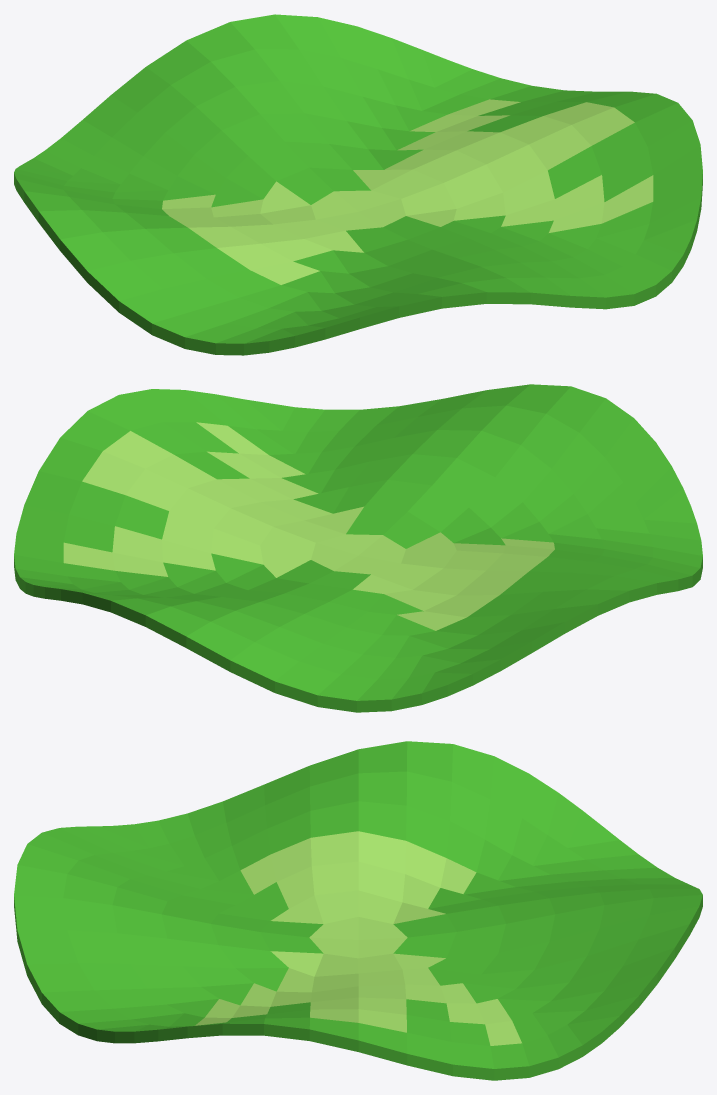
File: lettuce_leaf.glb
3 renders of one model, top to bottom at view 1: azimuth 30°, elevation 25°; view 2: azimuth 150°, elevation 25°; view 3: azimuth 270°, elevation 25°, orthographic.
Visible parts, largest first — view 1: LettuceLeaf; view 2: LettuceLeaf; view 3: LettuceLeaf.
Boxes of the visible parts, x1,y1,x2,y2 form: LettuceLeaf: (14, 14, 702, 355); LettuceLeaf: (14, 384, 702, 712); LettuceLeaf: (14, 741, 702, 1080).
Size of the model in its own units: 3.2 by 0.3476 by 3.2.
